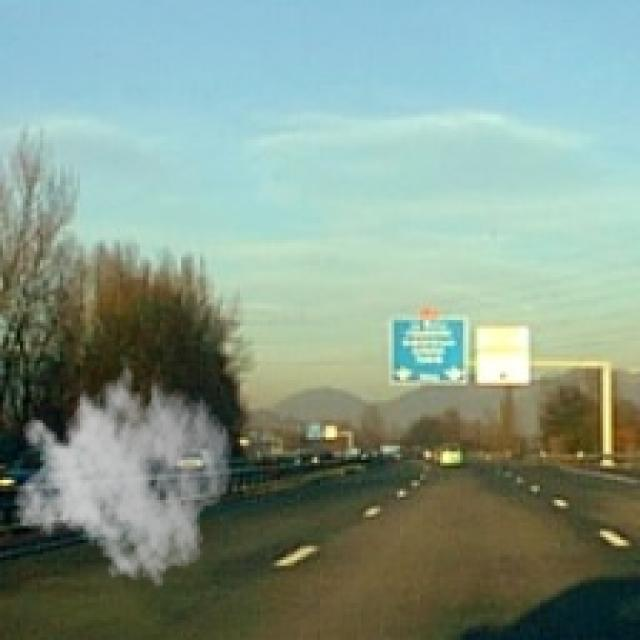smoke: (14, 352, 234, 588)
